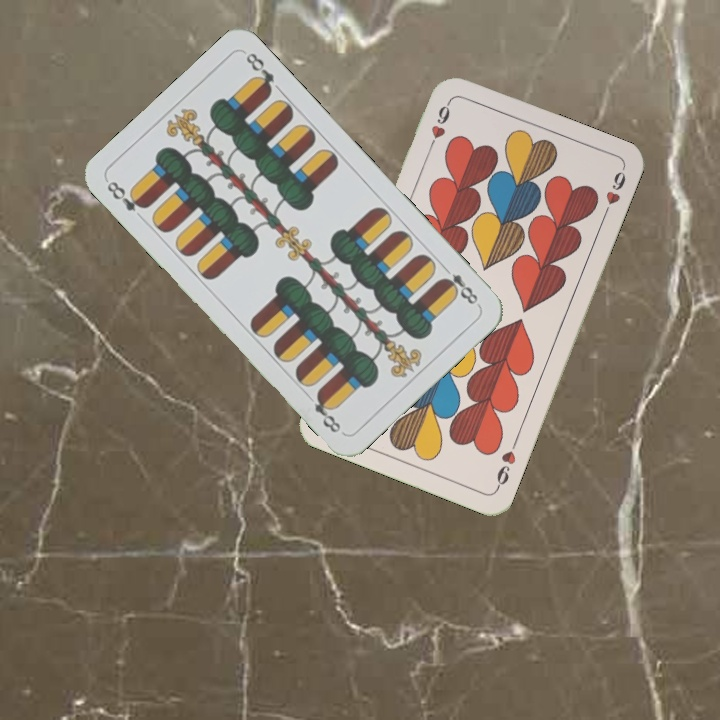E8: (437, 261, 481, 307), (102, 177, 151, 215)
H9: (424, 97, 454, 154), (492, 435, 520, 492)
